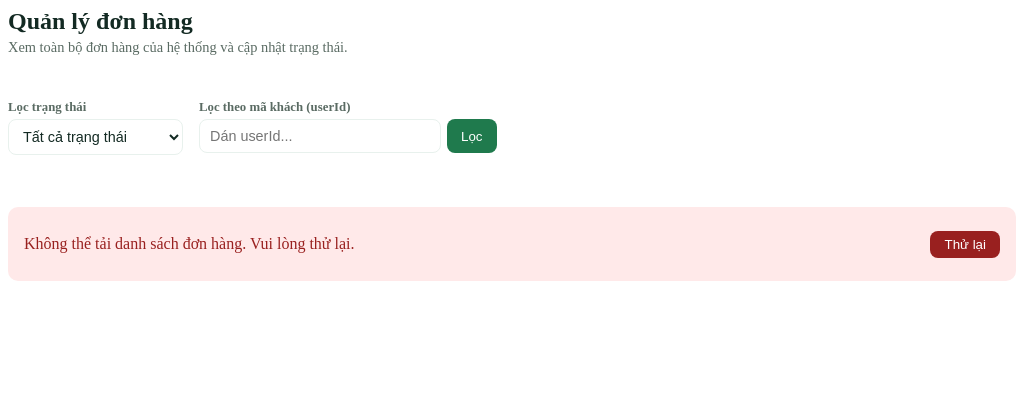
Test: AdminOrdersPage › retries after a load failure
Click the button "Thử lại" at (965, 244), box [930,230,1000,258]
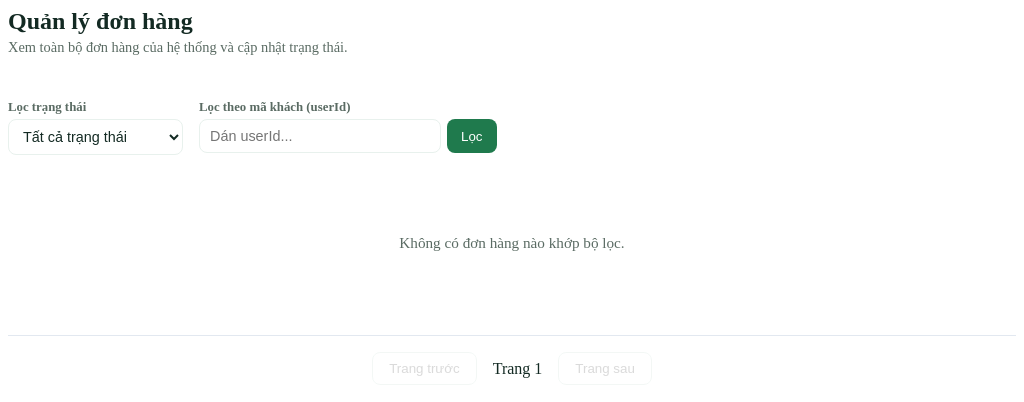
Result: the text "Không có đơn hàng nào khớp bộ lọc." is shown at [399,234,625,251]
